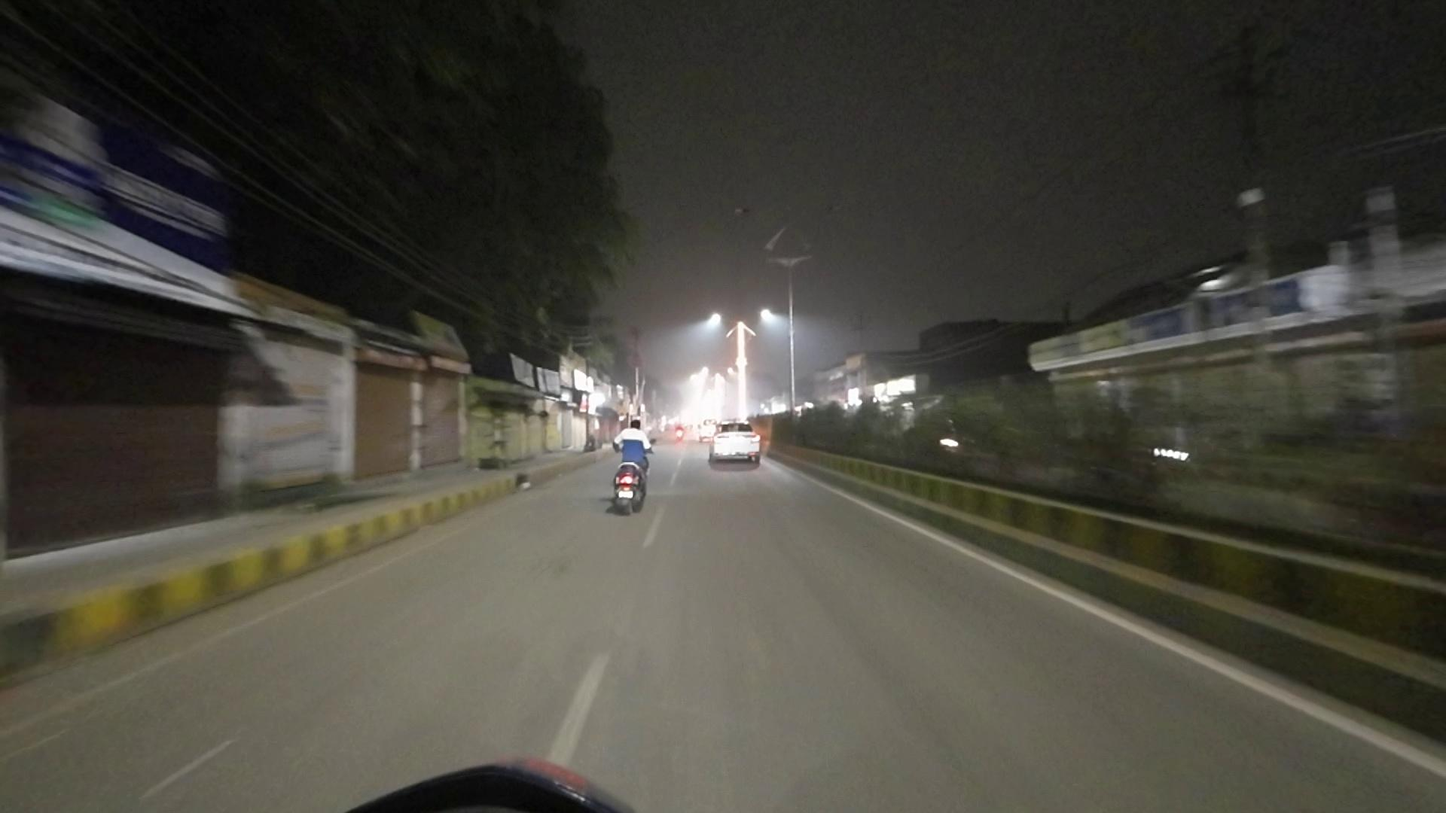streetlight: (728, 204, 785, 223), (797, 201, 844, 219)
